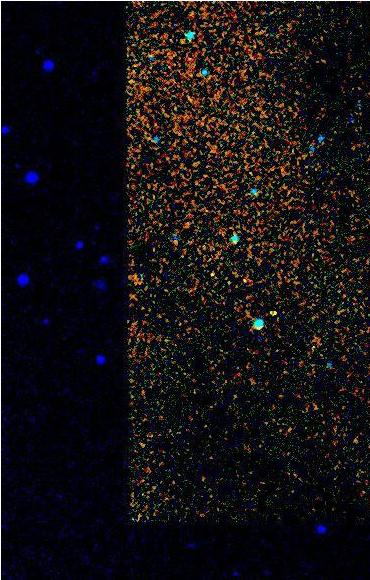star: (260, 301, 290, 331)
